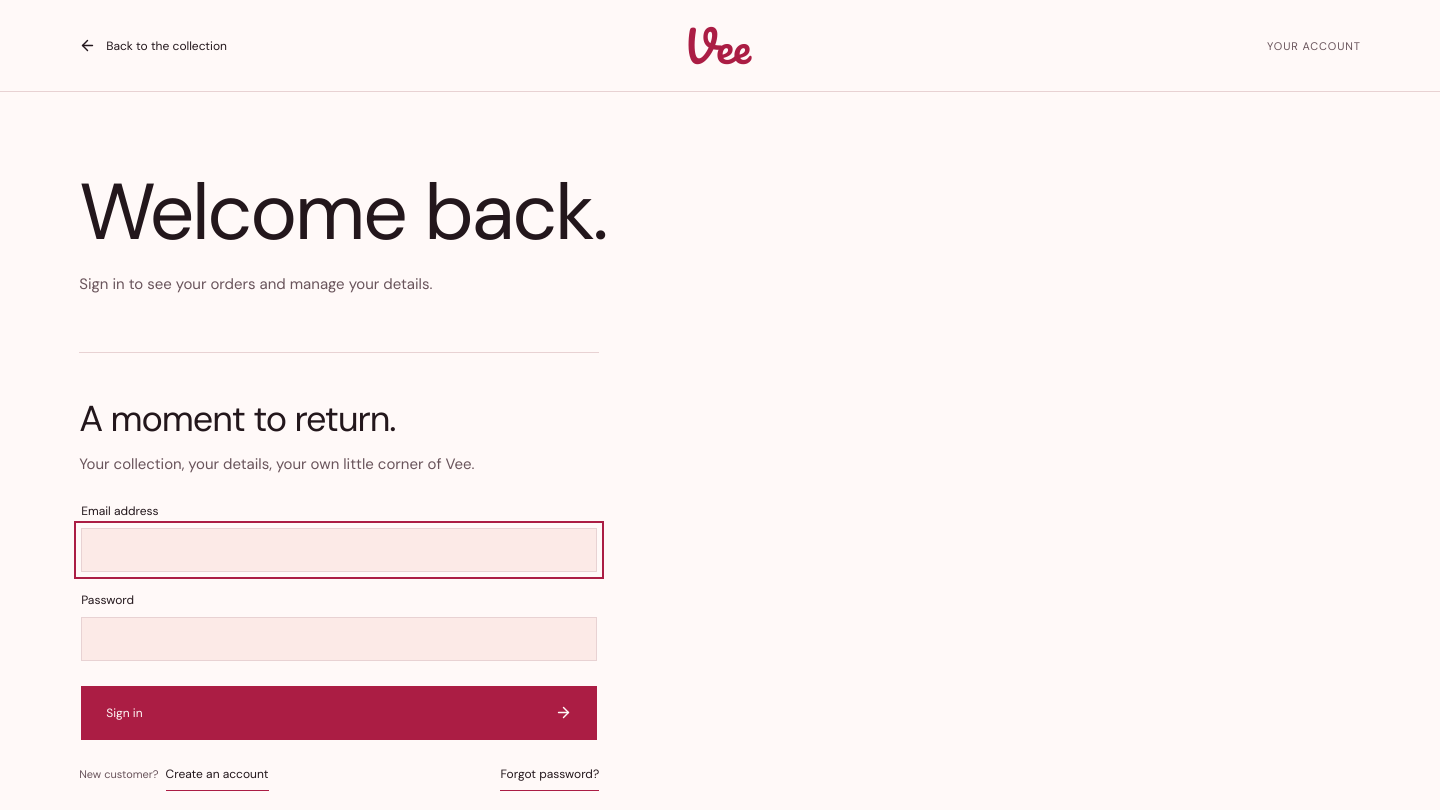
shows a signed-in shopper's orders and saves edited profile details
Type "buyer@example.com" into the field labelled "Email address" at (339, 550), box [81,528,597,572]
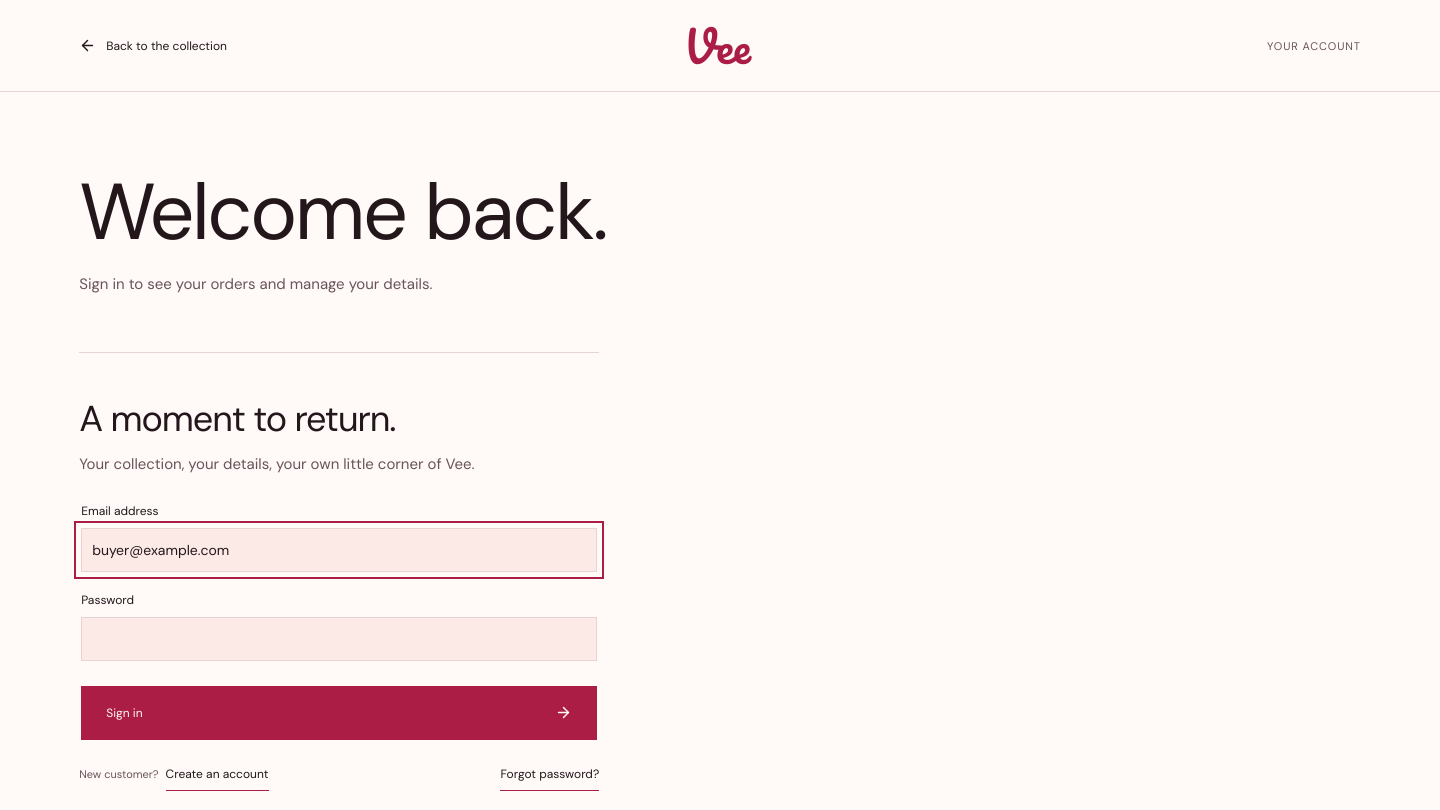
Type "example-password" into the password field labelled "Password" at (339, 639), box [81,617,597,661]
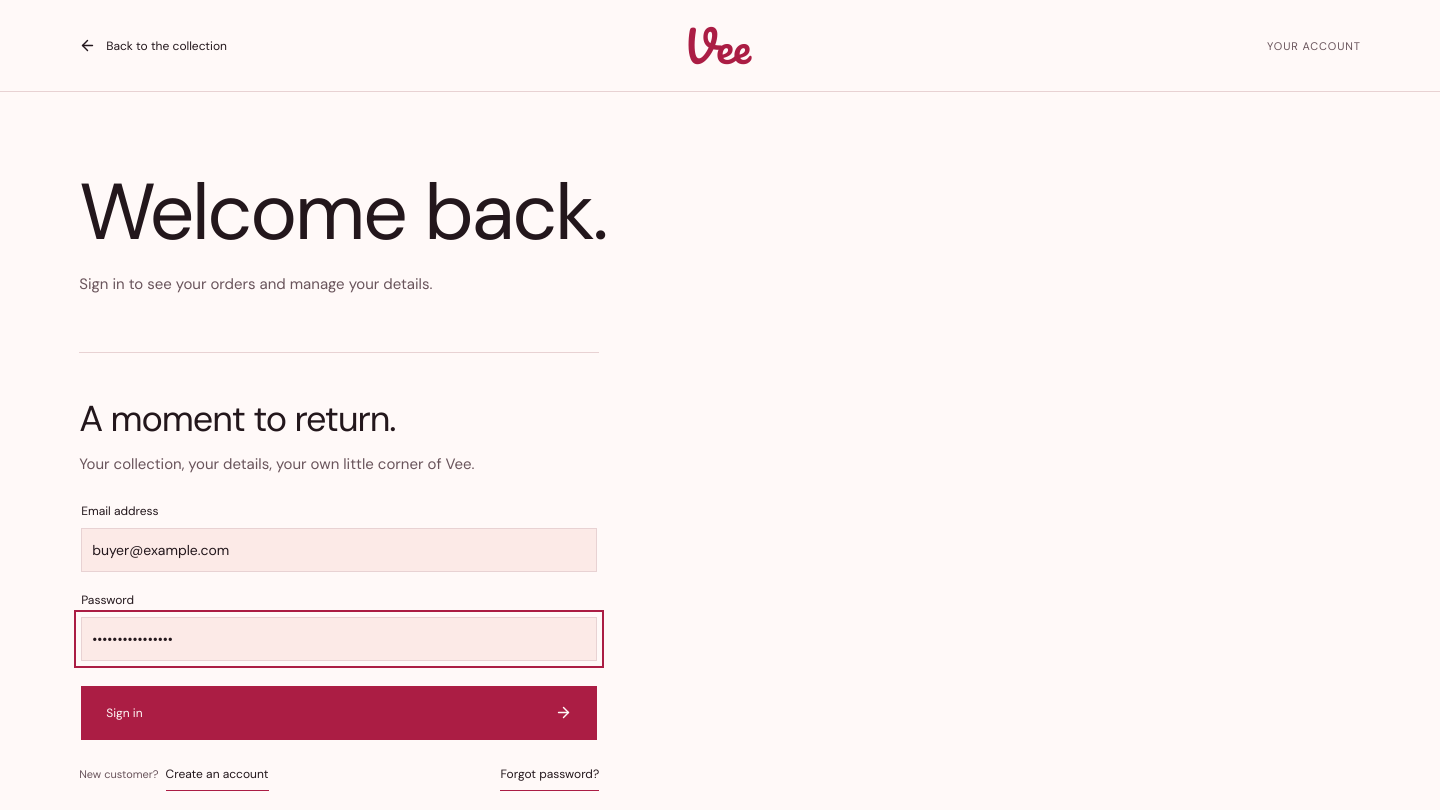
Click the button "Sign in" at (124, 713), box [81,686,597,740]
(page scrolled)
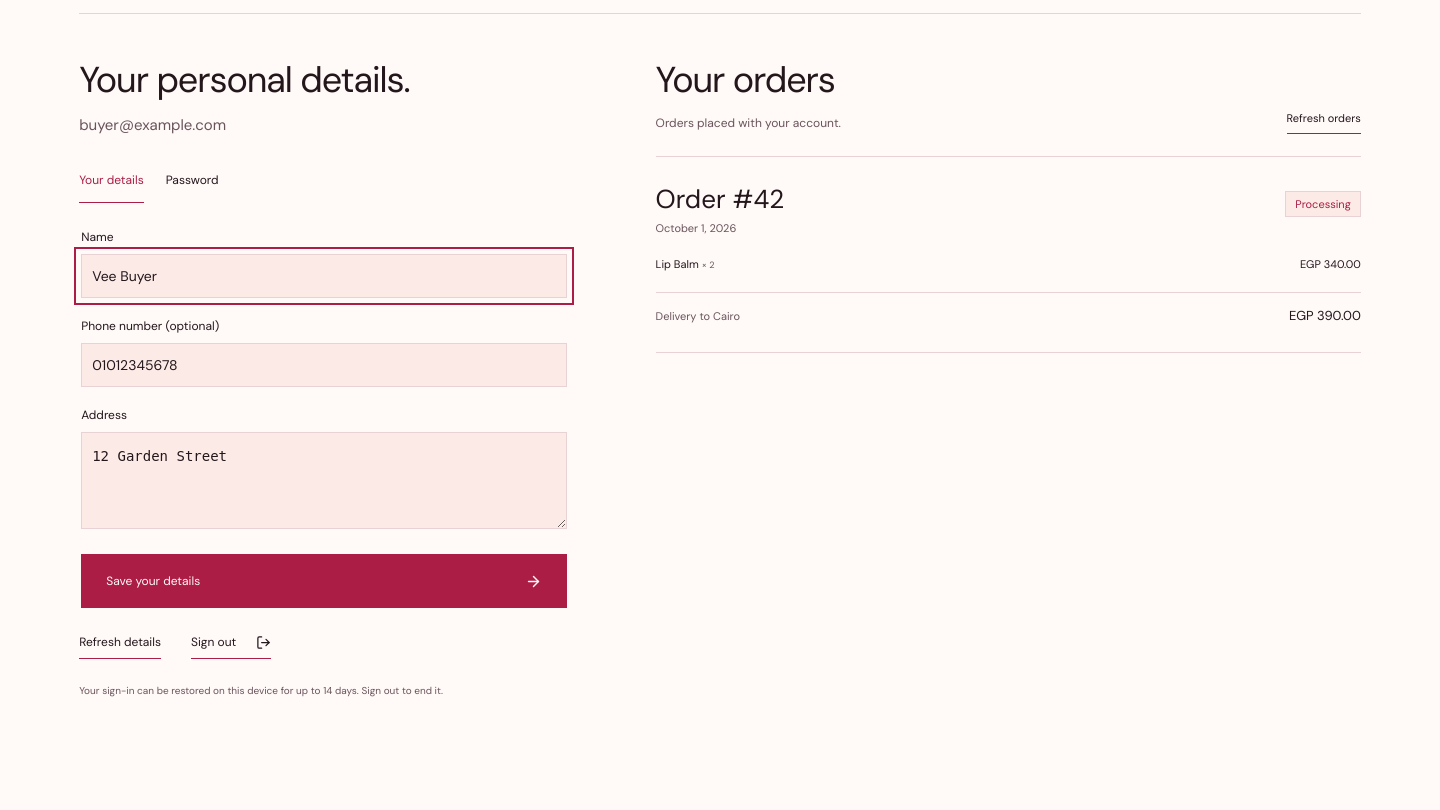
Expected: the heading "Order #42" is shown, [656,182,784,216]
Expected: the text "Lip Balm" is shown, [656,257,699,271]
Expected: the field labelled "Name" holds "Vee Buyer", [81,254,567,298]
Replace the text in the text box labelled "Address" with "14 Garden Street" at (324, 480), box [81,432,567,529]
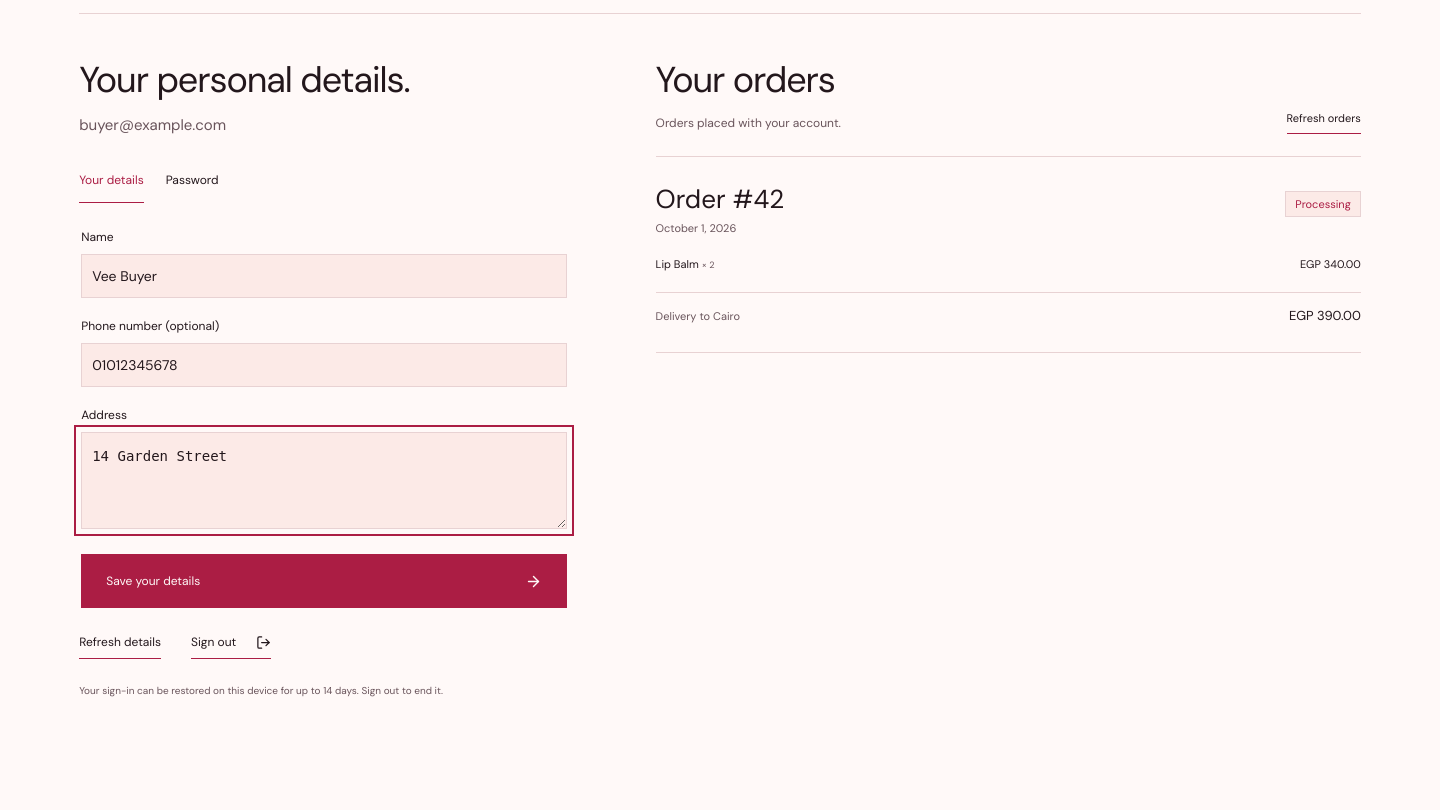
Click the button "Save your details" at (153, 581), box [81,554,567,608]
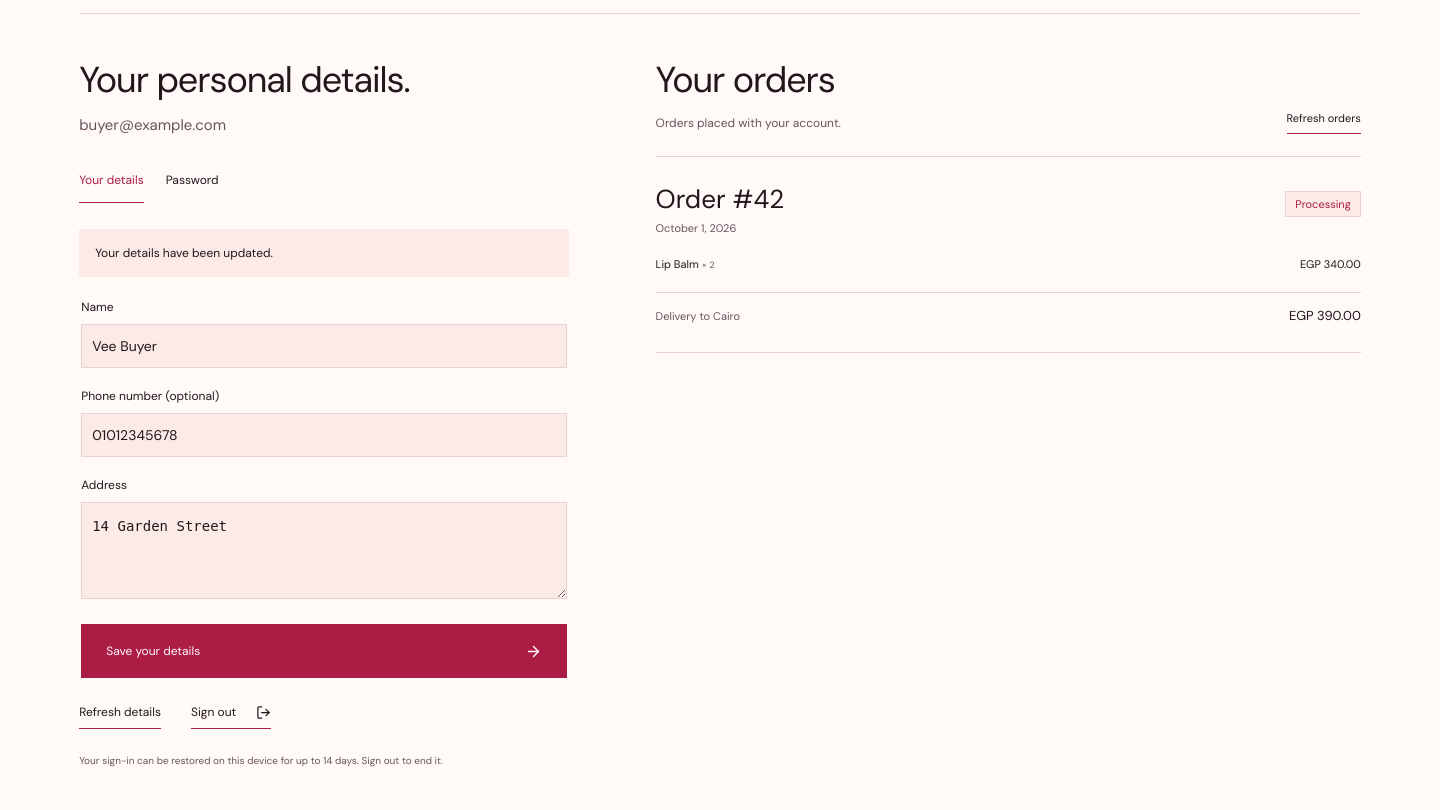
Expected: the text "Your details have been updated." is shown, [79,229,569,277]
